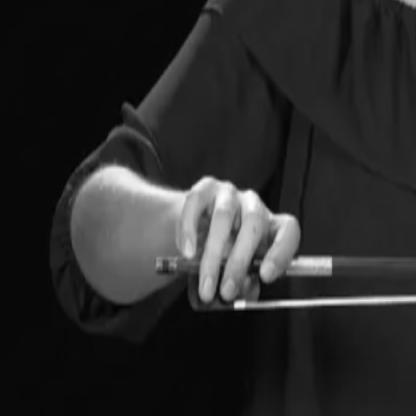bad: (172, 159, 310, 313)
